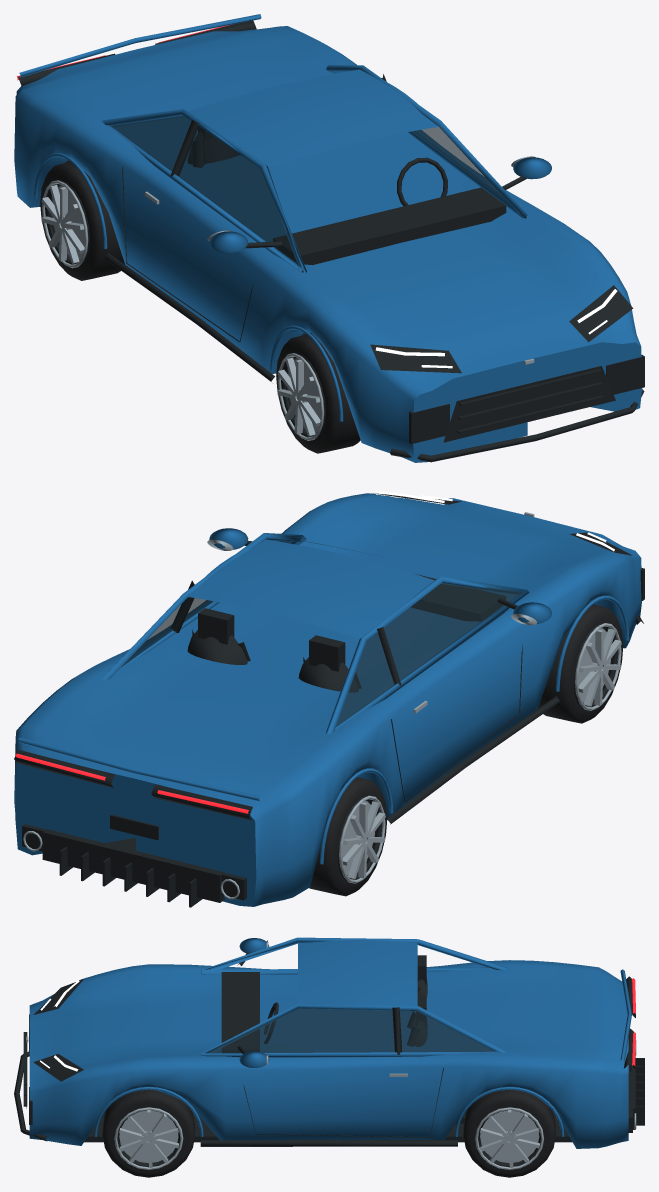
The model's file is velara-lod1.glb.
3 renders of one model, top to bottom at view 1: azimuth 30°, elevation 25°; view 2: azimuth 150°, elevation 25°; view 3: azimuth 270°, elevation 25°, orthographic. The views are drawn at different scales.
Visible parts, largest first — view 1: sculpted-coachwork_merged, undertray_merged, panoramic-windscreen_merged, tire (×2), brake-disc_merged (×2), led-signature_merged; view 2: sculpted-coachwork_merged, undertray_merged, panoramic-windscreen_merged, tire (×2), brake-disc_merged (×2), rear-light-guide_merged, flush-door-handle_merged; view 3: sculpted-coachwork_merged, undertray_merged, panoramic-windscreen_merged, tire (×2), brake-disc_merged (×2), rim-barrel_merged (×2).
Part boxes in pixels (x1,y1,x2,y2): sculpted-coachwork_merged: (14,14,642,462); undertray_merged: (18,20,644,462); panoramic-windscreen_merged: (111,115,522,270); tire (×2): (40,161,360,453); brake-disc_merged (×2): (41,180,324,440); led-signature_merged: (375,289,617,368); sculpted-coachwork_merged: (14,493,641,906); undertray_merged: (14,493,644,907); panoramic-windscreen_merged: (122,537,522,726); tire (×2): (309,603,623,896); brake-disc_merged (×2): (339,623,621,883); rear-light-guide_merged: (15,753,248,813); flush-door-handle_merged: (23,512,537,899); sculpted-coachwork_merged: (29,937,631,1148); undertray_merged: (14,953,644,1146); panoramic-windscreen_merged: (207,1008,494,1053); tire (×2): (102,1089,555,1177); brake-disc_merged (×2): (114,1107,544,1169); rim-barrel_merged (×2): (117,1107,541,1167).
Bounding box in the file's own units: 2.19 × 1.26 × 4.63.
